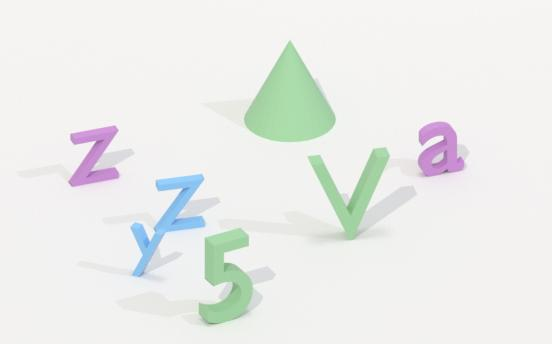5: (196, 225, 258, 328)
Y: (127, 220, 168, 279)
a: (416, 117, 468, 180)
non: (239, 35, 340, 148)
v: (306, 145, 392, 243)
z: (67, 125, 122, 189), (153, 171, 208, 235)
